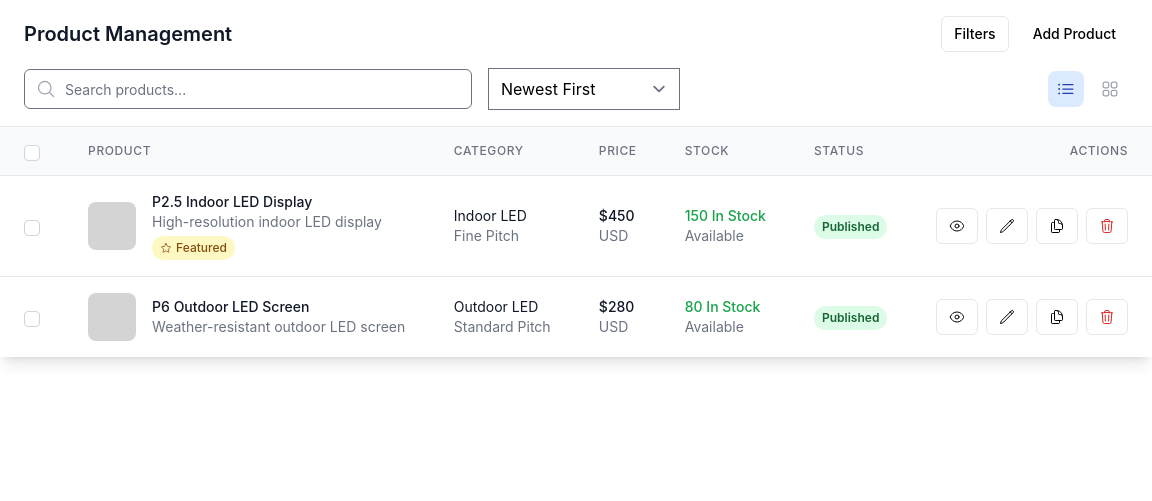
it: ProductManagement › clears filters
Note: Show filters
Click the button "Filters": point(975, 34) [941, 16, 1009, 52]
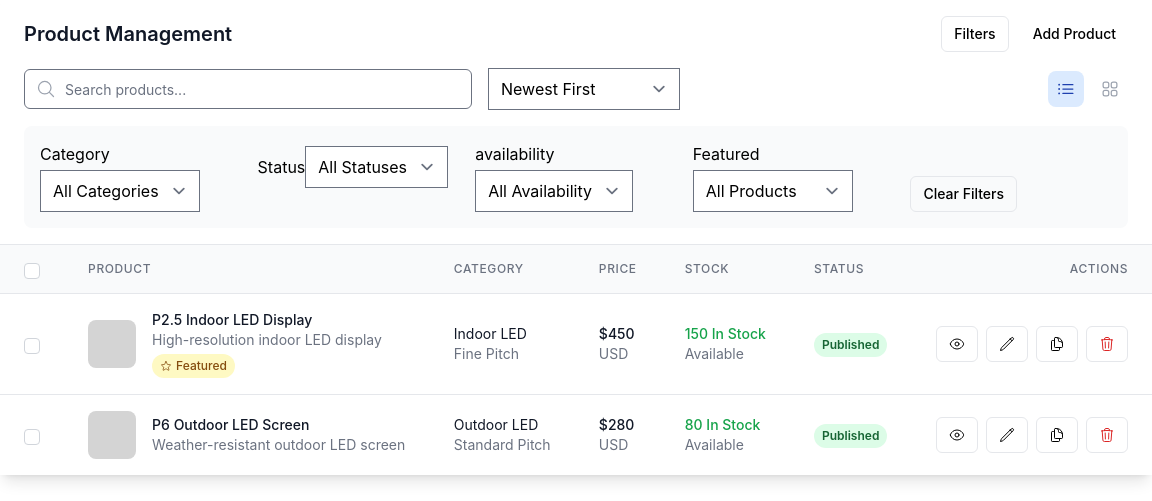
Select "Indoor LED" in the 3rd dropdown: point(120, 191) [40, 170, 200, 212]
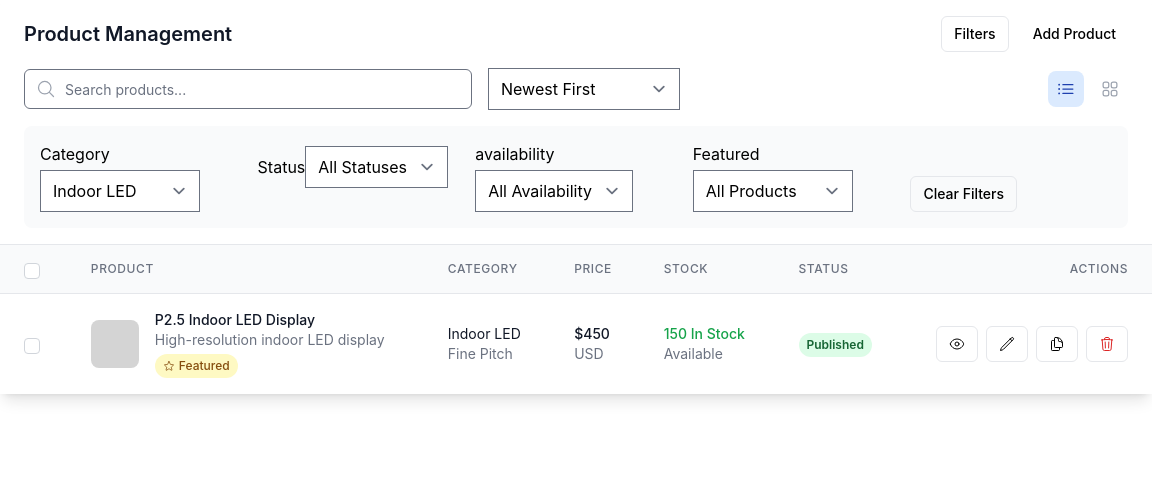
Note: Clear filters
Click the button "Clear Filters": point(964, 194) [910, 176, 1017, 212]
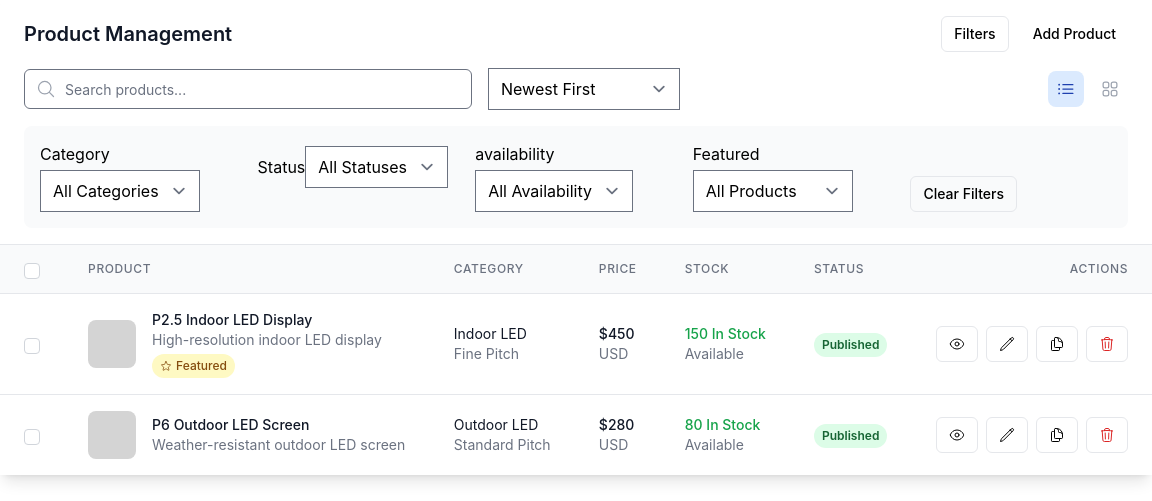
Expected: the text "P2.5 Indoor LED Display" is shown, [152, 311, 312, 328]
Expected: the text "P6 Outdoor LED Screen" is shown, [152, 416, 310, 433]
